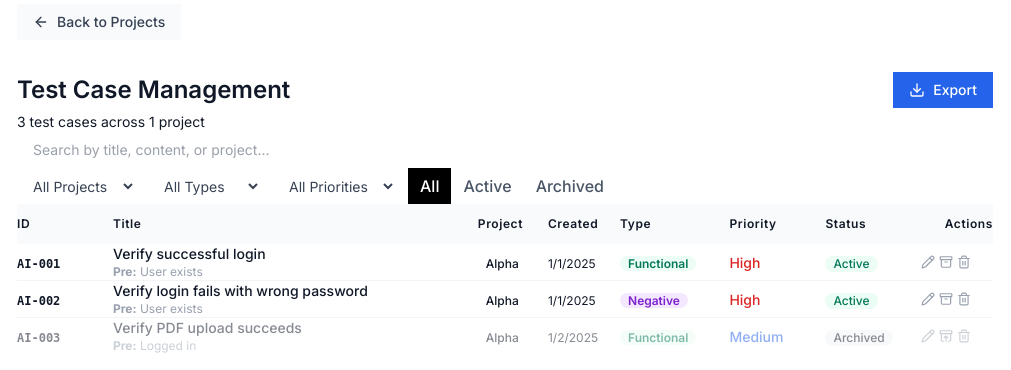
Test: TestCaseManagementView – search filter › shows "X shown" count when search is active
Expected: the text "Verify successful login" is shown, [113, 245, 266, 262]
Type "login" into the field with placeholder "Search by title, content, or project…" at (505, 150), box [17, 132, 993, 168]
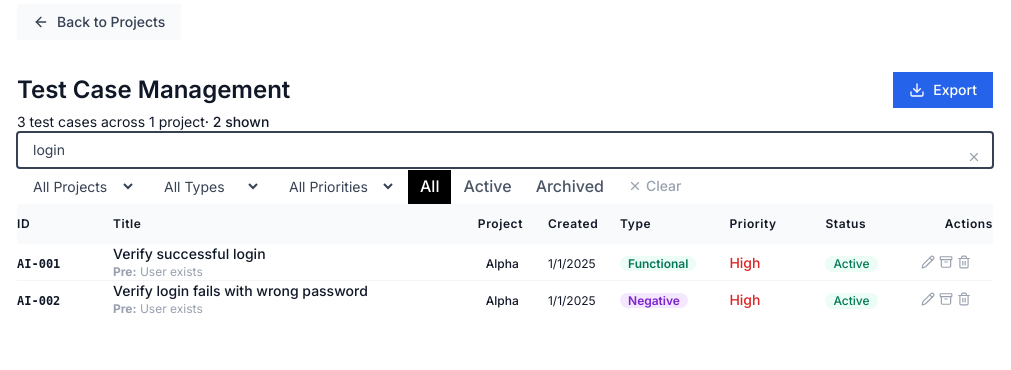
Expected: the text "· 2 shown" is shown, [205, 113, 269, 130]
